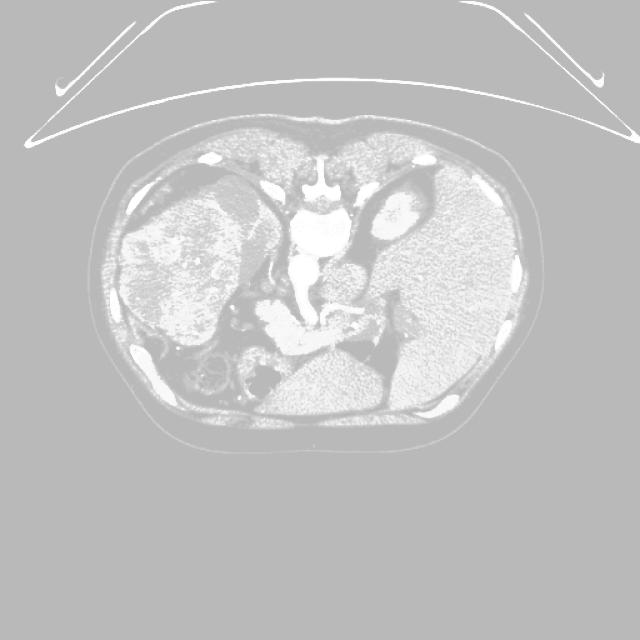TUMOR: (107, 178, 288, 330)
